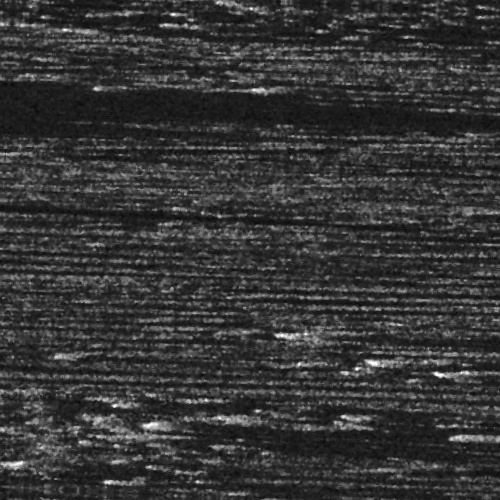object: (26, 31, 109, 42), (166, 25, 197, 30), (0, 0, 13, 5)
shadow: (0, 75, 162, 126), (0, 122, 114, 147), (68, 31, 151, 42), (182, 25, 267, 30), (0, 0, 76, 5)
